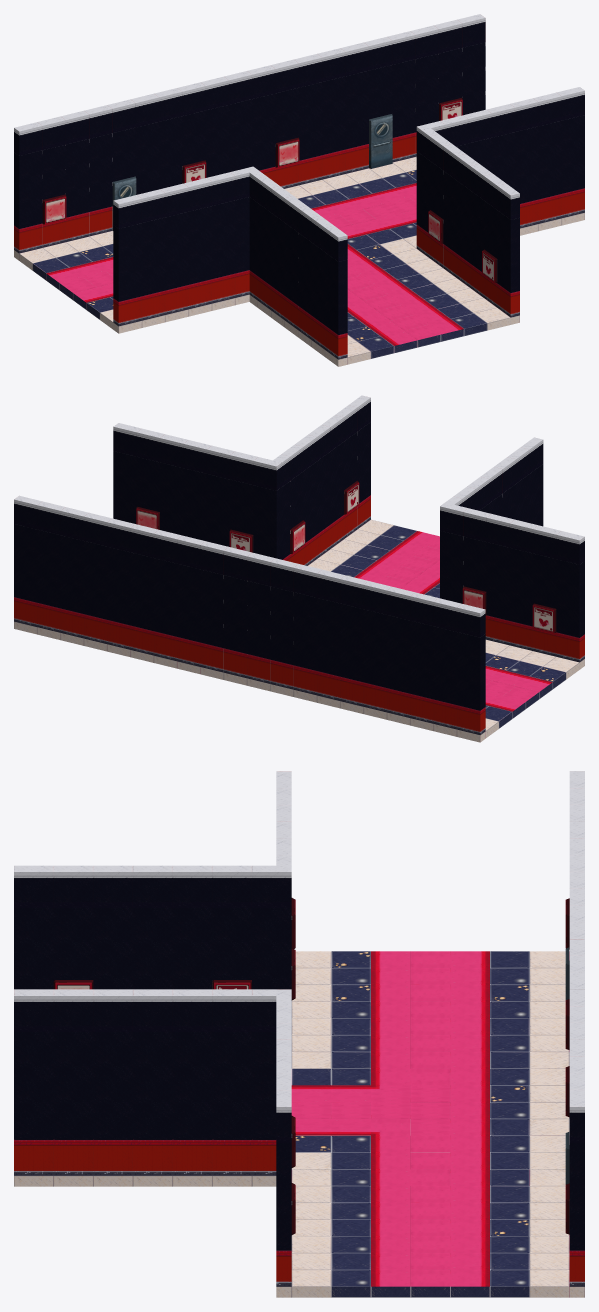
File: CinemaFork.fbx
3 renders of one model, top to bottom at view 1: azimuth 30°, elevation 25°; view 2: azimuth 150°, elevation 25°; view 3: azimuth 270°, elevation 25°, orthographic. The views are drawn at different scales.
Visible parts, largest first — view 1: Fork; view 2: Fork; view 3: Fork.
Boxes of the visible parts, bbox=[...] form: Fork: bbox=[14, 14, 584, 366]; Fork: bbox=[14, 395, 584, 742]; Fork: bbox=[14, 771, 584, 1297].
Size of the model in its own units: 2000 by 530 by 1439.
